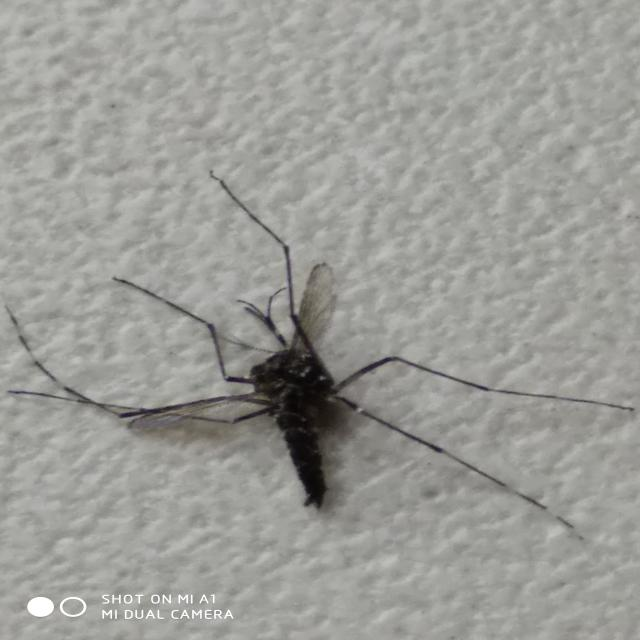albopictus: (20, 173, 621, 553)
